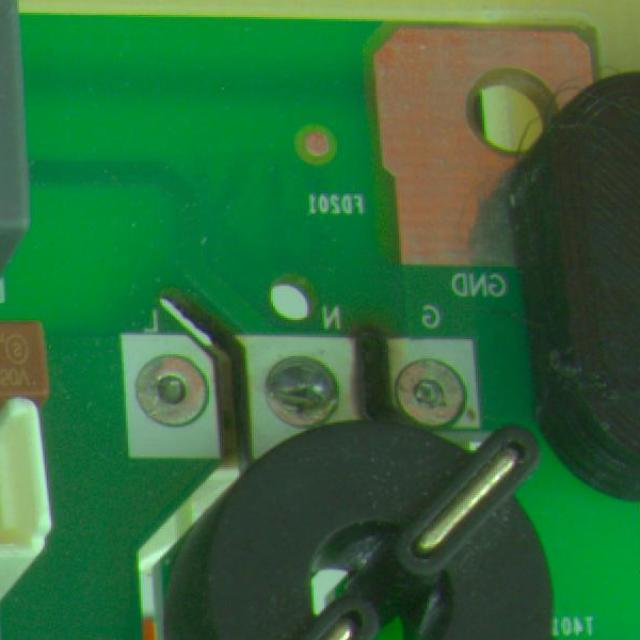Insufficient solder: (126, 347, 215, 430), (392, 341, 467, 436)
